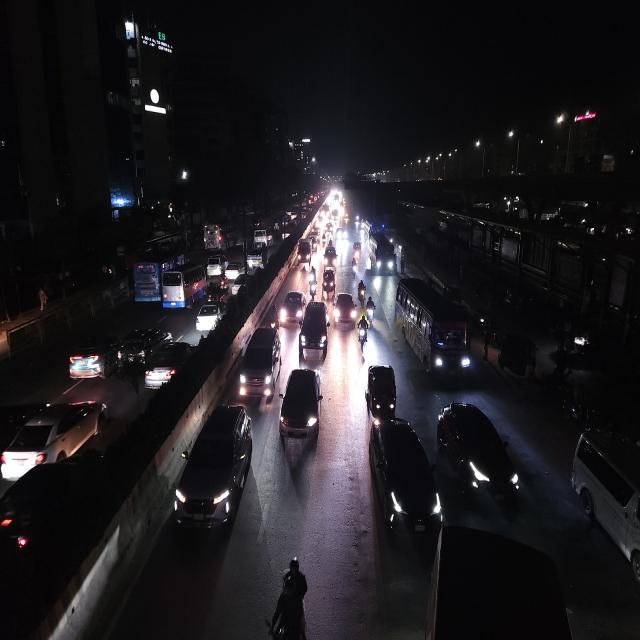bus: (568, 425, 640, 601), (393, 274, 475, 387), (160, 261, 209, 310), (132, 254, 166, 304), (368, 228, 396, 278), (202, 220, 236, 251)
car: (568, 426, 640, 598), (171, 400, 255, 539), (0, 452, 84, 573), (436, 396, 524, 510), (366, 414, 442, 544), (0, 395, 110, 478), (278, 363, 324, 456), (237, 321, 283, 401), (143, 337, 199, 392), (65, 332, 122, 383), (116, 323, 172, 368), (160, 259, 208, 310), (298, 297, 330, 362), (277, 288, 305, 328), (194, 300, 226, 334), (334, 288, 357, 330), (206, 251, 227, 276), (322, 243, 340, 270), (231, 273, 251, 296), (246, 247, 264, 271), (225, 258, 244, 280)
cng: (364, 360, 399, 431), (321, 266, 337, 298), (352, 240, 362, 260)
motorcycle: (262, 554, 321, 640), (356, 313, 370, 356), (365, 294, 377, 328), (357, 279, 367, 305), (308, 265, 318, 288), (349, 258, 358, 281), (308, 278, 317, 300)
pickup_van: (364, 360, 398, 430)
truck: (297, 238, 313, 268)
